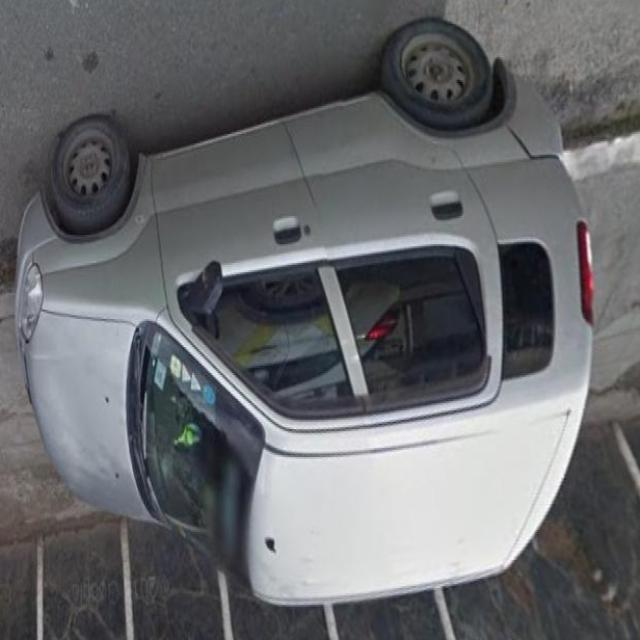car: (11, 23, 598, 606)
